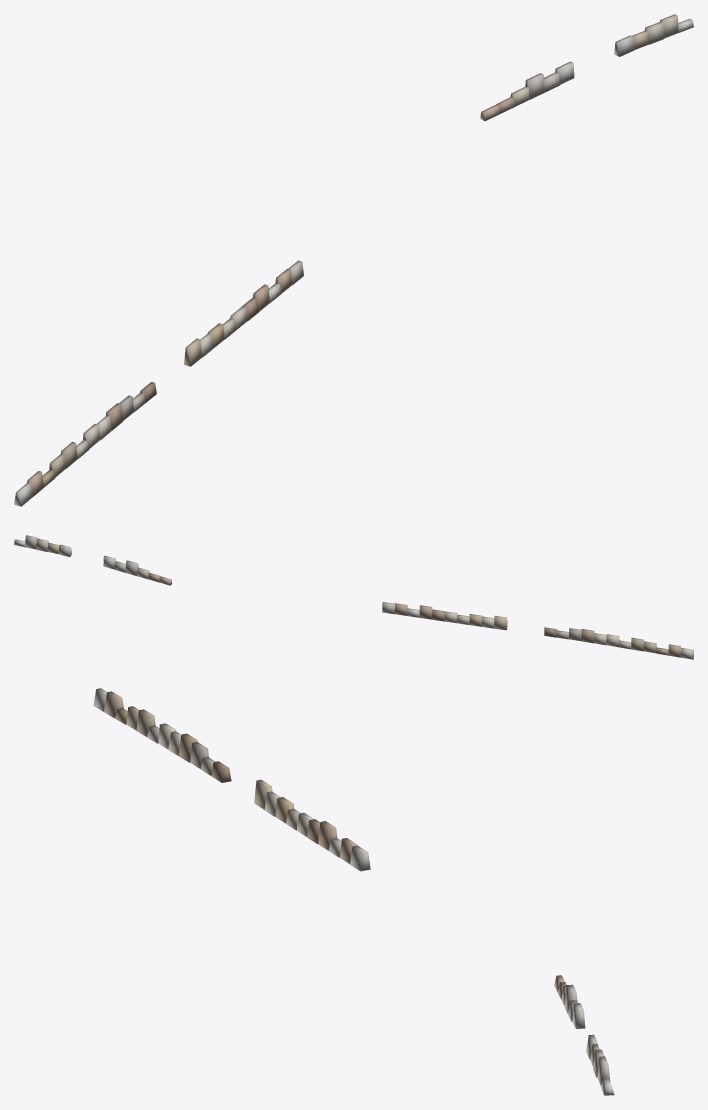
Rendered from farm_13_24_collision.glb.
3 renders of one model, top to bottom at view 1: azimuth 30°, elevation 25°; view 2: azimuth 150°, elevation 25°; view 3: azimuth 270°, elevation 25°, orthographic. The views are drawn at different scales.
Parts seen in each view (by area): view 1: geometry_0; view 2: geometry_0; view 3: geometry_0.
Boxes of the visible parts, x1,y1,x2,y2 form: geometry_0: (14,14,693,506); geometry_0: (14,535,693,659); geometry_0: (93,688,614,1095).
Size of the model in its own units: 80.12 by 11.58 by 32.73.
